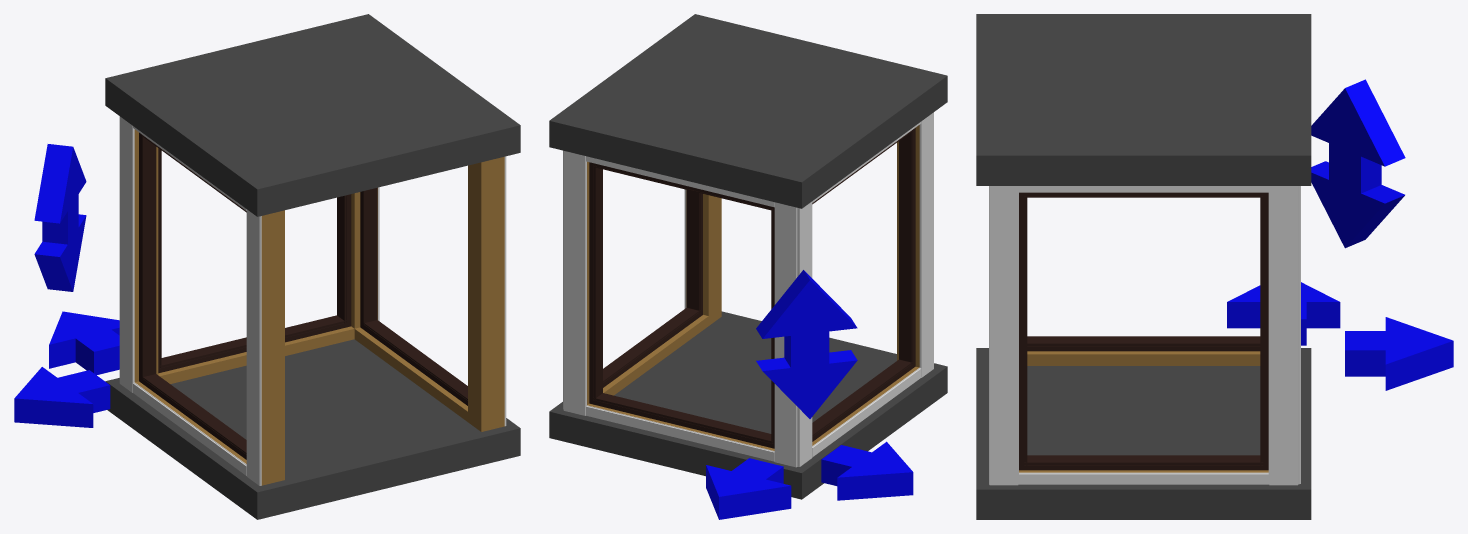
The model's file is porch.FBX.
The picture shows the model from 3 angles, left to right: view 1: azimuth 30°, elevation 25°; view 2: azimuth 150°, elevation 25°; view 3: azimuth 270°, elevation 25°; orthographic projection. The views are drawn at different scales.
Parts seen in each view (by area): view 1: PorchRoof, PorchBase, PostCorner_backa, PostCorner_Backb, affordance_trans_porch_height, affordance_trans_porch_width, ScreenTight-35-v10, ScreenTight-35-v09, affordance_trans_porch_depth, FastTrack-v04, FastTrack-v03, FastTrack-h11 (+12 smaller); view 2: PorchRoof, PorchBase, affordance_trans_porch_height, ScreenTight-35-v06, affordance_trans_porch_width, affordance_trans_porch_depth, ScreenTight-35-v07, ScreenTight-35-v10, FastTrack-v01, FastTrack-v00, FastTrack-h11, PostCorner_backa (+16 smaller); view 3: PorchRoof, PorchBase, affordance_trans_porch_height, ScreenTight-35-v08, ScreenTight-35-v11, affordance_trans_porch_depth, FastTrack-h09, FastTrack-h08, plate-side-b-btm, ScreenTight-15-h02, affordance_trans_porch_width, FastTrack-v03 (+5 smaller).
Part boxes in pixels (<box>): PorchRoof: <box>105,14,520,216</box>; PorchBase: <box>105,339,520,519</box>; PostCorner_backa: <box>468,156,504,431</box>; PostCorner_Backb: <box>261,210,284,485</box>; affordance_trans_porch_height: <box>34,144,86,291</box>; affordance_trans_porch_width: <box>14,367,110,427</box>; ScreenTight-35-v10: <box>246,209,261,485</box>; ScreenTight-35-v09: <box>119,116,134,392</box>; affordance_trans_porch_depth: <box>49,311,119,374</box>; FastTrack-v04: <box>141,135,156,383</box>; FastTrack-v03: <box>360,187,377,329</box>; FastTrack-h11: <box>158,315,350,373</box>; PorchRoof: <box>549,14,947,208</box>; PorchBase: <box>549,311,947,499</box>; affordance_trans_porch_height: <box>756,270,857,418</box>; ScreenTight-35-v06: <box>563,151,586,415</box>; affordance_trans_porch_width: <box>821,441,913,500</box>; affordance_trans_porch_depth: <box>706,458,791,519</box>; ScreenTight-35-v07: <box>774,202,797,467</box>; ScreenTight-35-v10: <box>919,112,933,377</box>; FastTrack-v01: <box>899,128,915,364</box>; FastTrack-v00: <box>589,162,602,404</box>; FastTrack-h11: <box>589,393,773,448</box>; PostCorner_backa: <box>686,190,721,325</box>; PorchRoof: <box>976,14,1311,185</box>; PorchBase: <box>976,348,1311,519</box>; affordance_trans_porch_height: <box>1311,79,1405,248</box>; ScreenTight-35-v08: <box>1268,186,1298,485</box>; ScreenTight-35-v11: <box>989,186,1018,485</box>; affordance_trans_porch_depth: <box>1345,317,1453,390</box>; FastTrack-h09: <box>1019,455,1268,470</box>; FastTrack-h08: <box>1027,336,1260,351</box>; plate-side-b-btm: <box>1027,351,1260,365</box>; ScreenTight-15-h02: <box>1019,472,1268,484</box>; affordance_trans_porch_width: <box>1227,282,1340,345</box>; FastTrack-v03: <box>1260,195,1268,470</box>.
Bounding box in the file's own units: 1.39 × 1.2 × 1.42.
